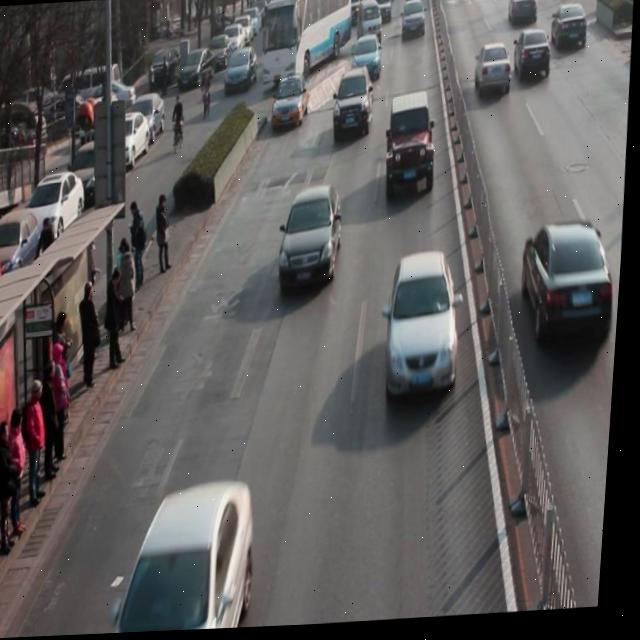car: (115, 479, 266, 635), (524, 222, 624, 353), (389, 253, 468, 404), (280, 188, 348, 293), (386, 93, 442, 204), (332, 69, 377, 143), (272, 75, 312, 132), (514, 31, 555, 86), (475, 46, 515, 102), (551, 8, 589, 58), (350, 35, 385, 86), (399, 2, 427, 45), (507, 0, 540, 31), (372, 0, 395, 28), (597, 0, 635, 11)
truck: (355, 1, 384, 50)
van: (259, 0, 352, 89)
